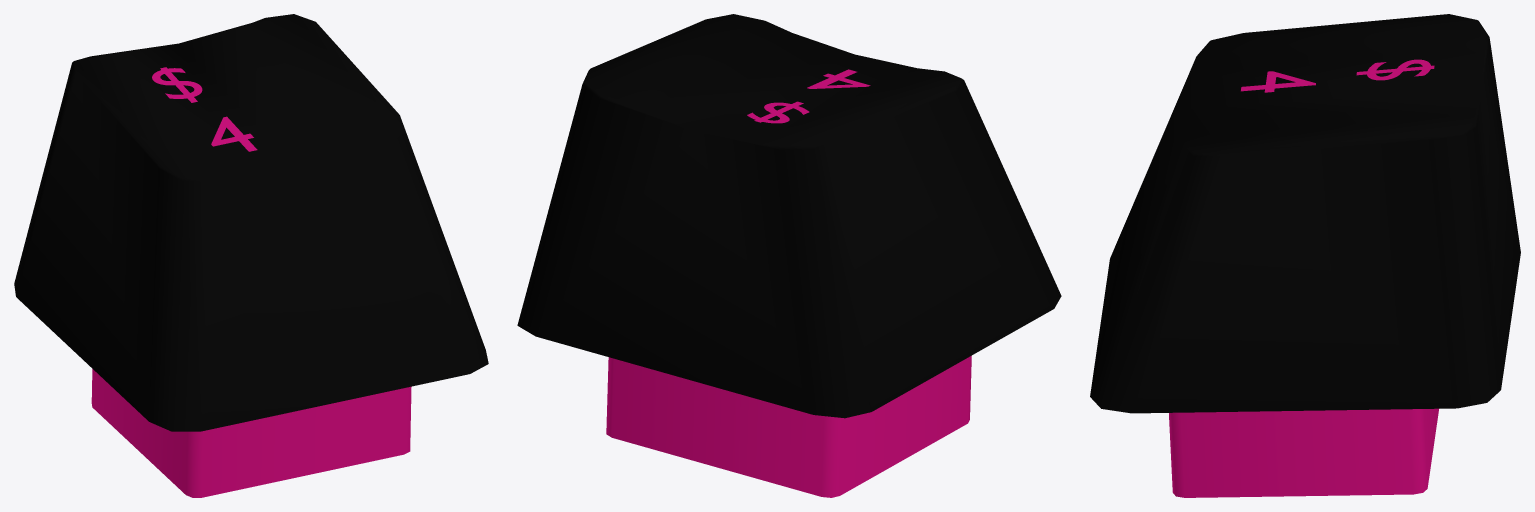
File: key_4_1-CwgxYI3b.glb
3 renders of one model, left to right at view 1: azimuth 30°, elevation 25°; view 2: azimuth 150°, elevation 25°; view 3: azimuth 270°, elevation 25°, orthographic. The views are drawn at different scales.
Parts seen in each view (by area): view 1: StudyShelf_761; view 2: StudyShelf_761; view 3: StudyShelf_761.
Boxes of the visible parts, x1=… form: StudyShelf_761: x1=14, y1=14, x2=488, y2=497; StudyShelf_761: x1=517, y1=14, x2=1061, y2=497; StudyShelf_761: x1=1090, y1=14, x2=1520, y2=497.
Size of the model in its own units: 4.35 by 4.14 by 4.35.
